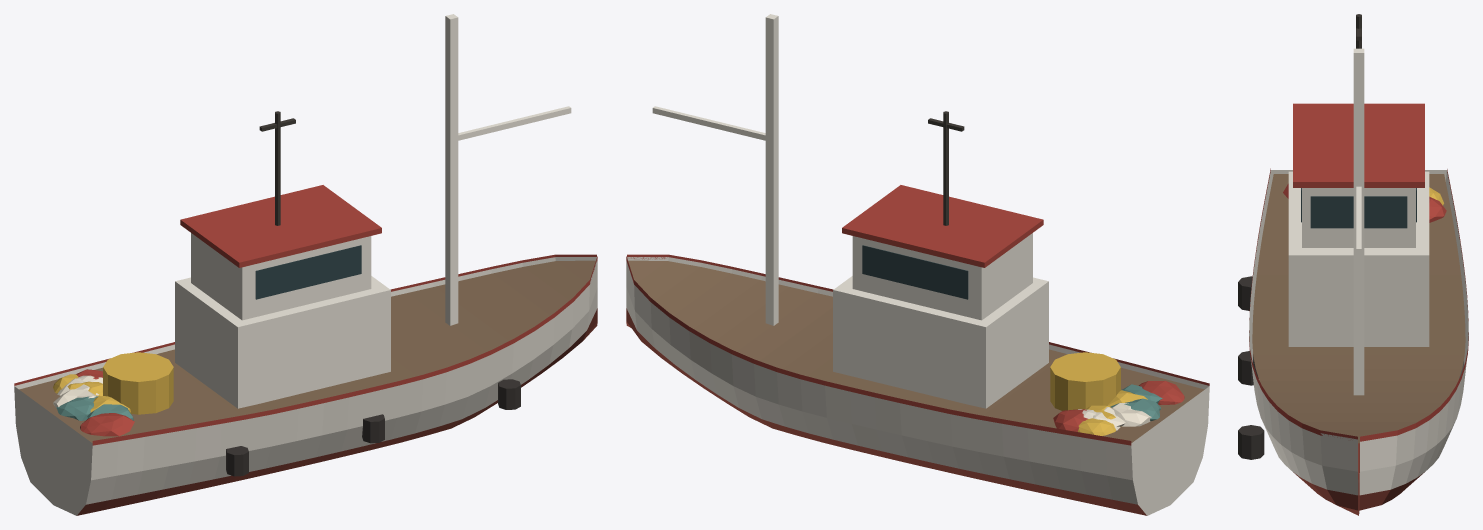
File: girgir-teknesi-beyaz.glb
3 renders of one model, left to right at view 1: azimuth 30°, elevation 25°; view 2: azimuth 150°, elevation 25°; view 3: azimuth 270°, elevation 25°, orthographic. The views are drawn at different scales.
Visible parts, largest first — view 1: tekne_beyaz, ahsap, tekne_kirmizi, beyaz, tekne_sari, karina, cam, kauçuk, kirmizi, kepenk2, demir, ip; view 2: tekne_beyaz, ahsap, tekne_kirmizi, beyaz, tekne_sari, karina, cam, kirmizi, ip, demir, kepenk2; view 3: tekne_beyaz, ahsap, tekne_kirmizi, beyaz, cam, kauçuk, karina, kirmizi.
Part boxes in pixels (left/top/right/bottom): tekne_beyaz: left=14, top=233, right=597, bottom=515; ahsap: left=19, top=260, right=595, bottom=442; tekne_kirmizi: left=14, top=185, right=597, bottom=445; beyaz: left=445, top=14, right=571, bottom=325; tekne_sari: left=53, top=352, right=173, bottom=414; karina: left=77, top=308, right=597, bottom=515; cam: left=255, top=245, right=361, bottom=299; kauçuk: left=226, top=379, right=520, bottom=476; kirmizi: left=75, top=369, right=134, bottom=436; kepenk2: left=56, top=396, right=133, bottom=420; demir: left=259, top=111, right=295, bottom=225; ip: left=53, top=375, right=102, bottom=408; tekne_beyaz: left=626, top=233, right=1209, bottom=515; ahsap: left=628, top=260, right=1204, bottom=442; tekne_kirmizi: left=626, top=185, right=1209, bottom=445; beyaz: left=652, top=14, right=778, bottom=325; tekne_sari: left=1050, top=352, right=1147, bottom=435; karina: left=626, top=308, right=1146, bottom=515; cam: left=862, top=245, right=968, bottom=299; kirmizi: left=1053, top=381, right=1184, bottom=431; ip: left=1078, top=403, right=1151, bottom=430; demir: left=928, top=111, right=964, bottom=225; kepenk2: left=1110, top=384, right=1162, bottom=421; tekne_beyaz: left=1249, top=170, right=1468, bottom=495; ahsap: left=1252, top=174, right=1465, bottom=443; tekne_kirmizi: left=1249, top=103, right=1468, bottom=441; beyaz: left=1353, top=48, right=1364, bottom=395; cam: left=1301, top=188, right=1416, bottom=228; kauçuk: left=1238, top=276, right=1264, bottom=459; karina: left=1293, top=443, right=1424, bottom=515; kirmizi: left=1283, top=183, right=1446, bottom=222.
Bounding box in the file's own units: 16 × 11 × 5.25.
